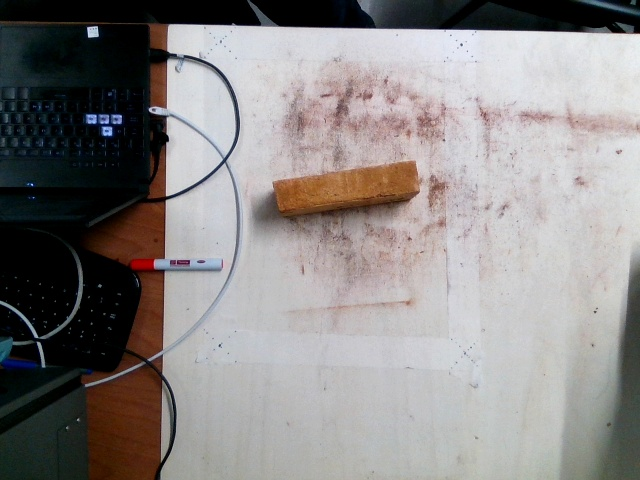brick-side: (276, 162, 419, 209)
